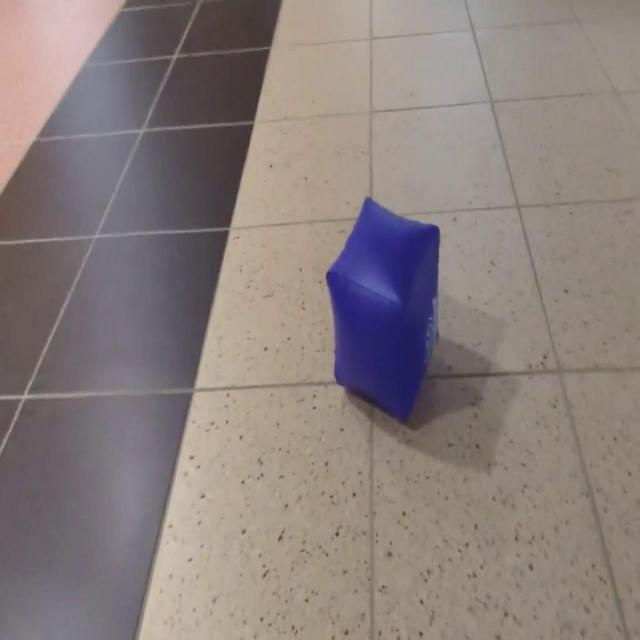frc_cube: (325, 202, 439, 420)
